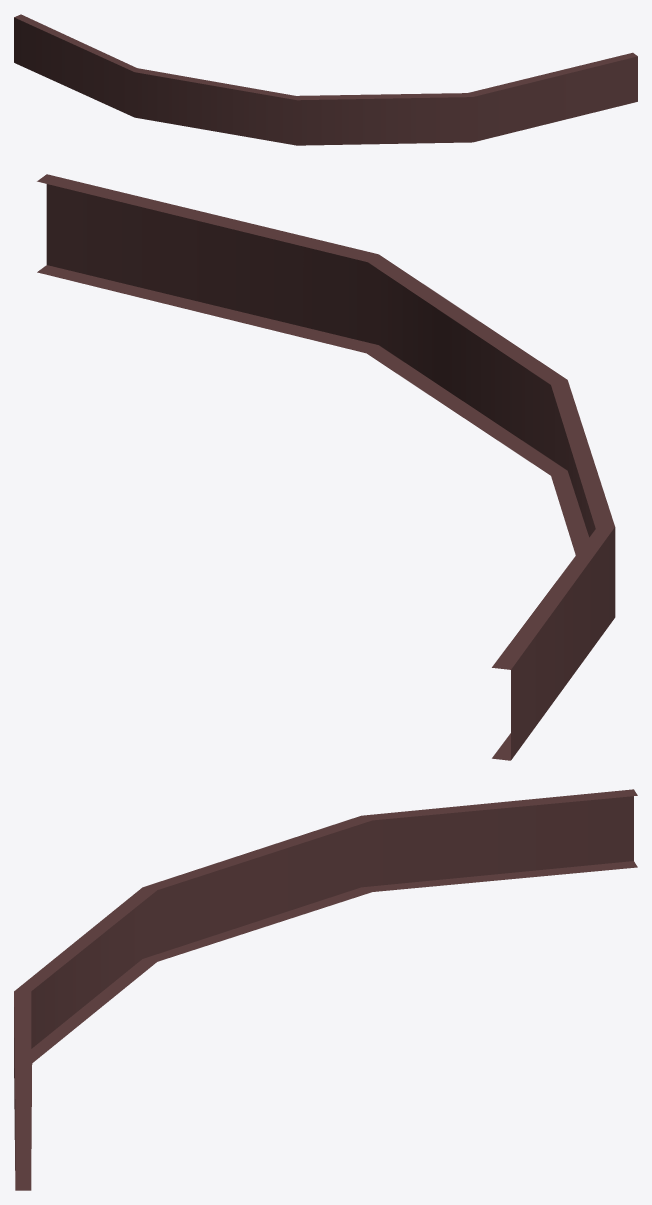
Rendered from AlleyLedgeC_1.fbx.
The picture shows the model from 3 angles, top to bottom: view 1: azimuth 30°, elevation 25°; view 2: azimuth 150°, elevation 25°; view 3: azimuth 270°, elevation 25°; orthographic projection. The views are drawn at different scales.
Parts seen in each view (by area): view 1: AlleyLedgeC_1; view 2: AlleyLedgeC_1; view 3: AlleyLedgeC_1.
Boxes of the visible parts, bbox=[...] form: AlleyLedgeC_1: bbox=[14, 14, 637, 145]; AlleyLedgeC_1: bbox=[37, 174, 615, 760]; AlleyLedgeC_1: bbox=[14, 789, 637, 1190].
Bounding box in the file's own units: 292 × 29.59 × 233.
